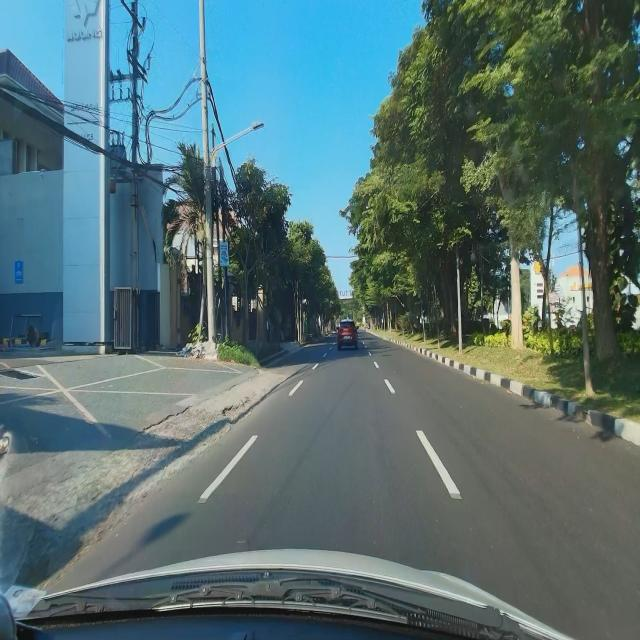car: (337, 319, 359, 352)
license-plate: (344, 336, 351, 340)
